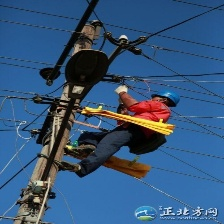helmet: (152, 90, 181, 103)
person: (84, 85, 185, 178)
